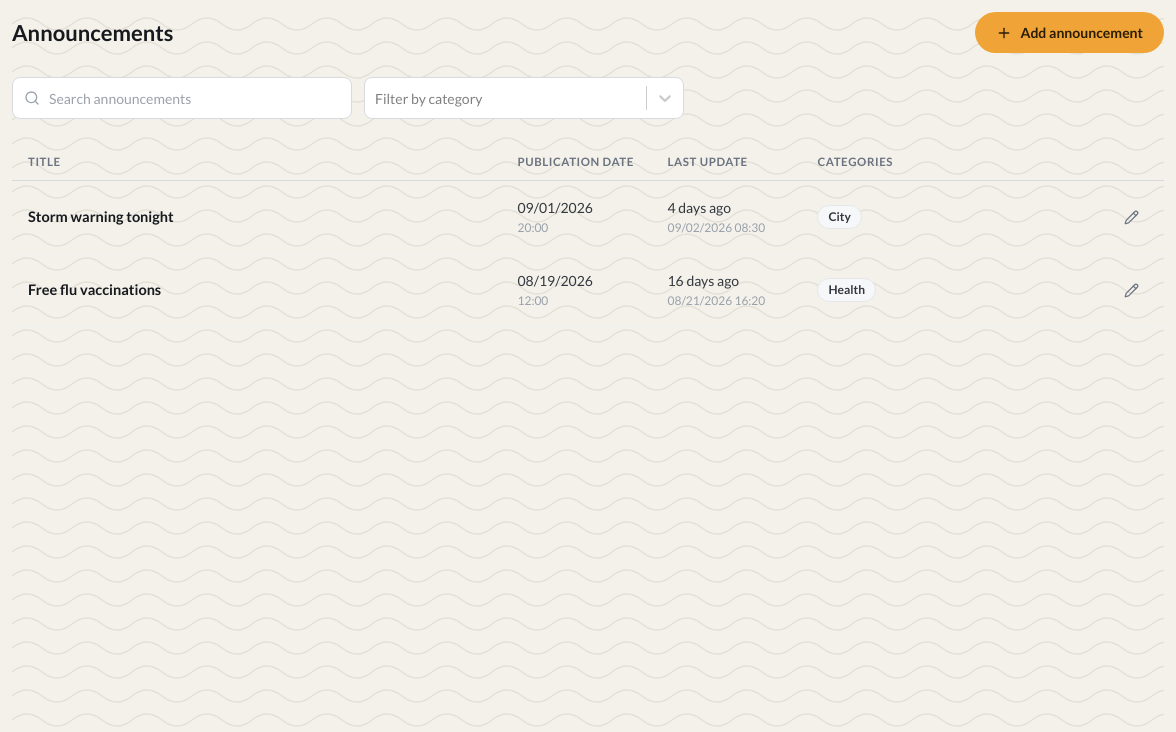
Test case: AnnouncementsPage › debounces typed search into the URL
The width and height of the screenshot is (1176, 732).
Expected: the text "Storm warning tonight" is shown, [12,181,502,254]
Type "storm" into the search field. click: coordinates (182, 98)
box: [12,77,352,119]
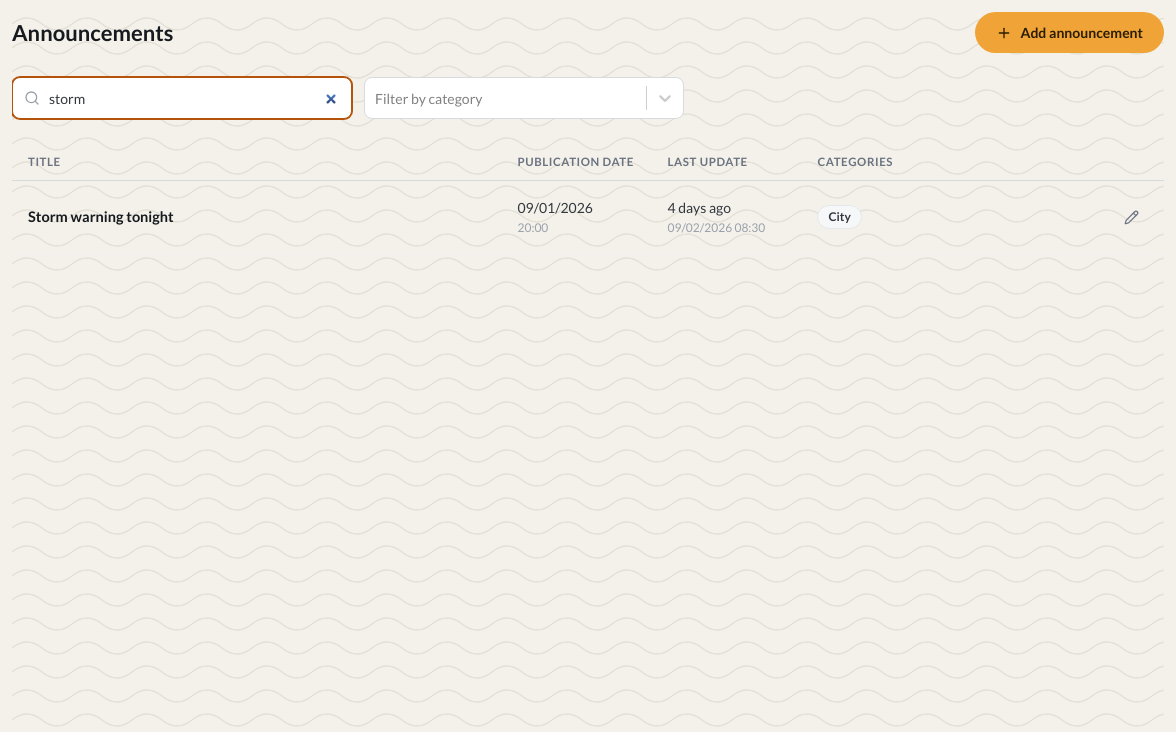
Now the text "Free flu vaccinations" is gone
